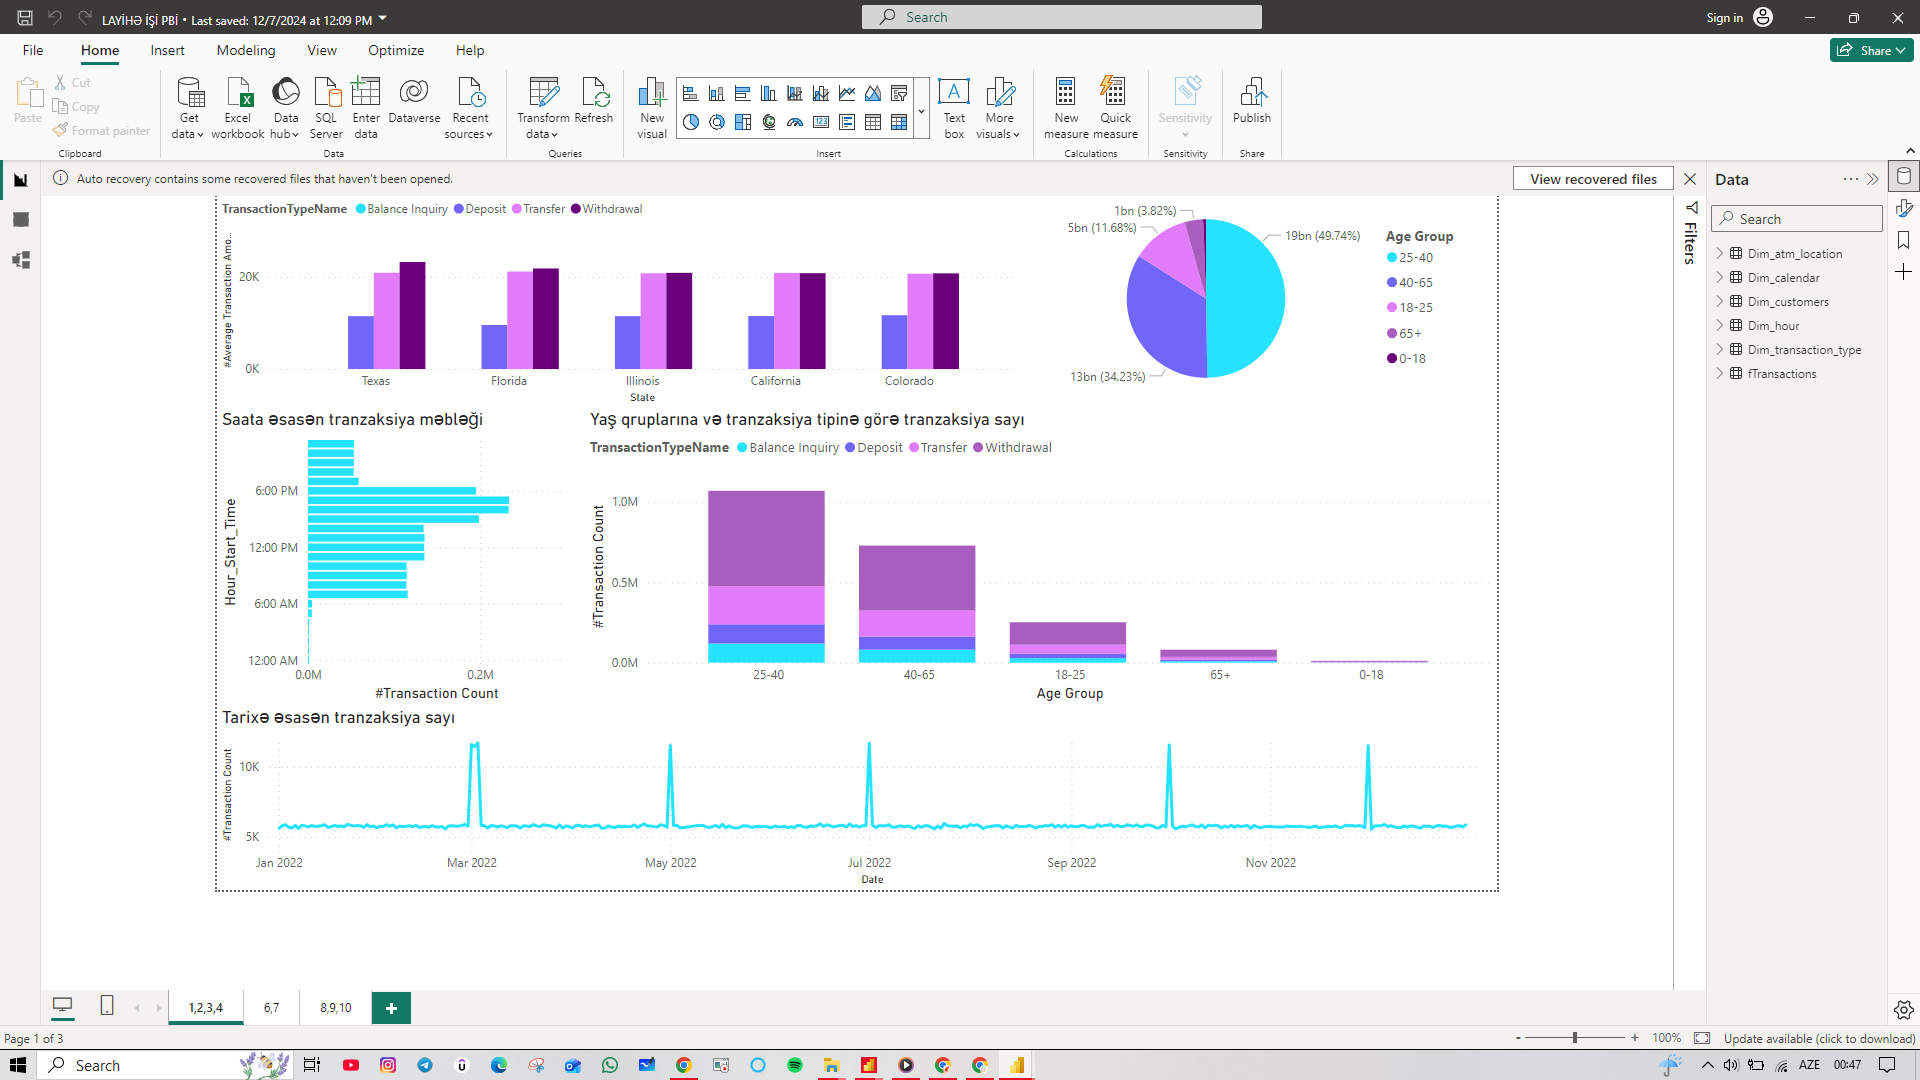

Layout of this report page (visuals, bound fields, positions):
{"tool":"powerbi","page":{"name":"1,2,3,4","canvas":[1280,720],"ordinal":0},"visuals":[{"type":"clusteredColumnChart","title":"Tranzaksiya tipi və Ştata əsasən ortalama tranzaksiya məbləği","fields":{"Category":["Dim_atm_location.State"],"Y":["fTransactions.#Average Transaction Amount"],"Series":["Dim_transaction_type.TransactionTypeName"]},"box":[0,0,804,238],"z":0},{"type":"barChart","title":"Saata əsasən tranzaksiya məbləği","fields":{"Category":["Dim_hour.Hour_Start_Time"],"Y":["fTransactions.#Transaction Count"]},"box":[0,238,368,298],"z":1000},{"type":"columnChart","title":"Yaş qruplarına və tranzaksiya tipinə görə tranzaksiya sayı","fields":{"Category":["Dim_customers.Age Group"],"Series":["Dim_transaction_type.TransactionTypeName"],"Y":["fTransactions.#Transaction Count"]},"box":[368,238,912,298],"z":2000},{"type":"pieChart","title":"Yaşa əsasən tranzaksiya tipi faizi","fields":{"Category":["Dim_customers.Age Group"],"Y":["Sum(fTransactions.TransactionAmount)"]},"box":[804,0,457,238],"z":3000},{"type":"lineChart","title":"Tarixə əsasən tranzaksiya sayı","fields":{"Category":["fTransactions.Date"],"Y":["fTransactions.#Transaction Count"]},"box":[0,536,1280,184],"z":5000}]}

Visuals, with their boxes on the page's 1280x720 design canvas (x1, y1, x2, y2). These are canvas units, not pixel positions in the 1920x1080 screenshot, which may show the page scaled, cropped or inside an application window:
"Tranzaksiya tipi və Ştata əsasən ortalama tranzaksiya məbləği" clusteredColumnChart: 0:0:804:238
"Saata əsasən tranzaksiya məbləği" barChart: 0:238:368:536
"Yaş qruplarına və tranzaksiya tipinə görə tranzaksiya sayı" columnChart: 368:238:1280:536
"Yaşa əsasən tranzaksiya tipi faizi" pieChart: 804:0:1261:238
"Tarixə əsasən tranzaksiya sayı" lineChart: 0:536:1280:720
